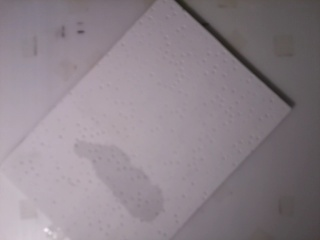Water_detected: (97, 154, 159, 212)
